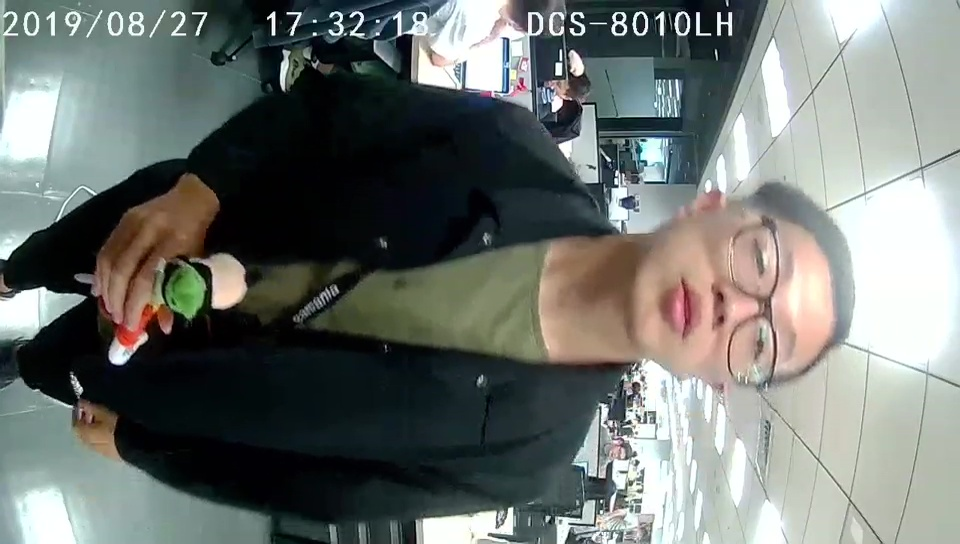goofy: (94, 250, 249, 364)
